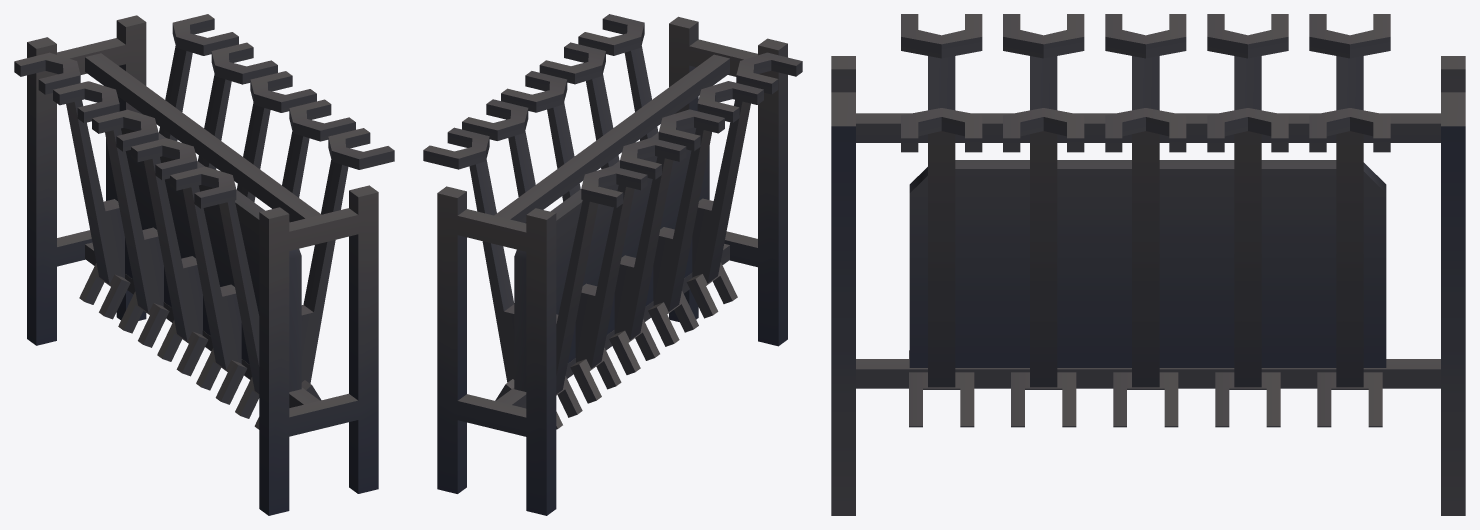
Rendered from GunStand.fbx.
3 renders of one model, left to right at view 1: azimuth 30°, elevation 25°; view 2: azimuth 150°, elevation 25°; view 3: azimuth 270°, elevation 25°, orthographic. The views are drawn at different scales.
Parts seen in each view (by area): view 1: GunStand; view 2: GunStand; view 3: GunStand.
Part boxes in pixels (bbox=[...]): GunStand: bbox=[14, 14, 394, 515]; GunStand: bbox=[423, 14, 802, 515]; GunStand: bbox=[831, 14, 1465, 515].
Bounding box in the file's own units: 110 × 168 × 238.
